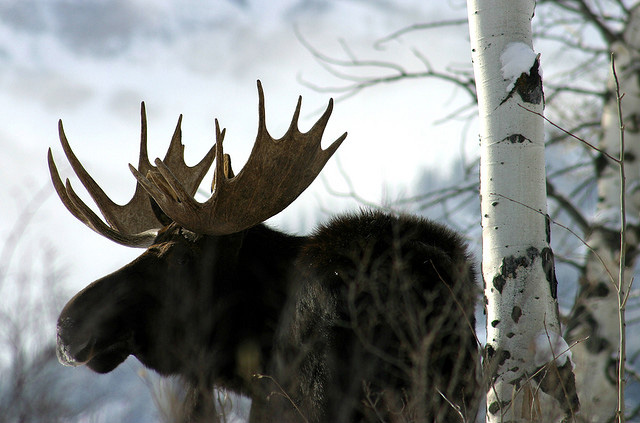moose: (38, 75, 476, 423)
